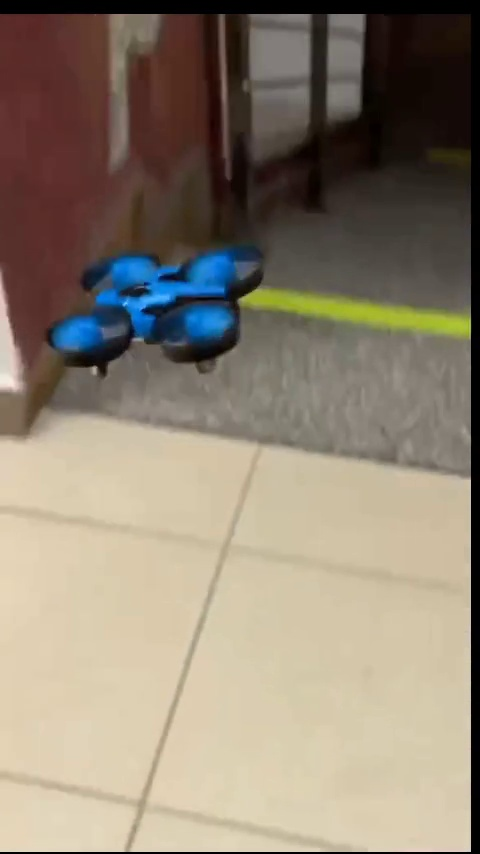drone: (38, 250, 270, 369)
